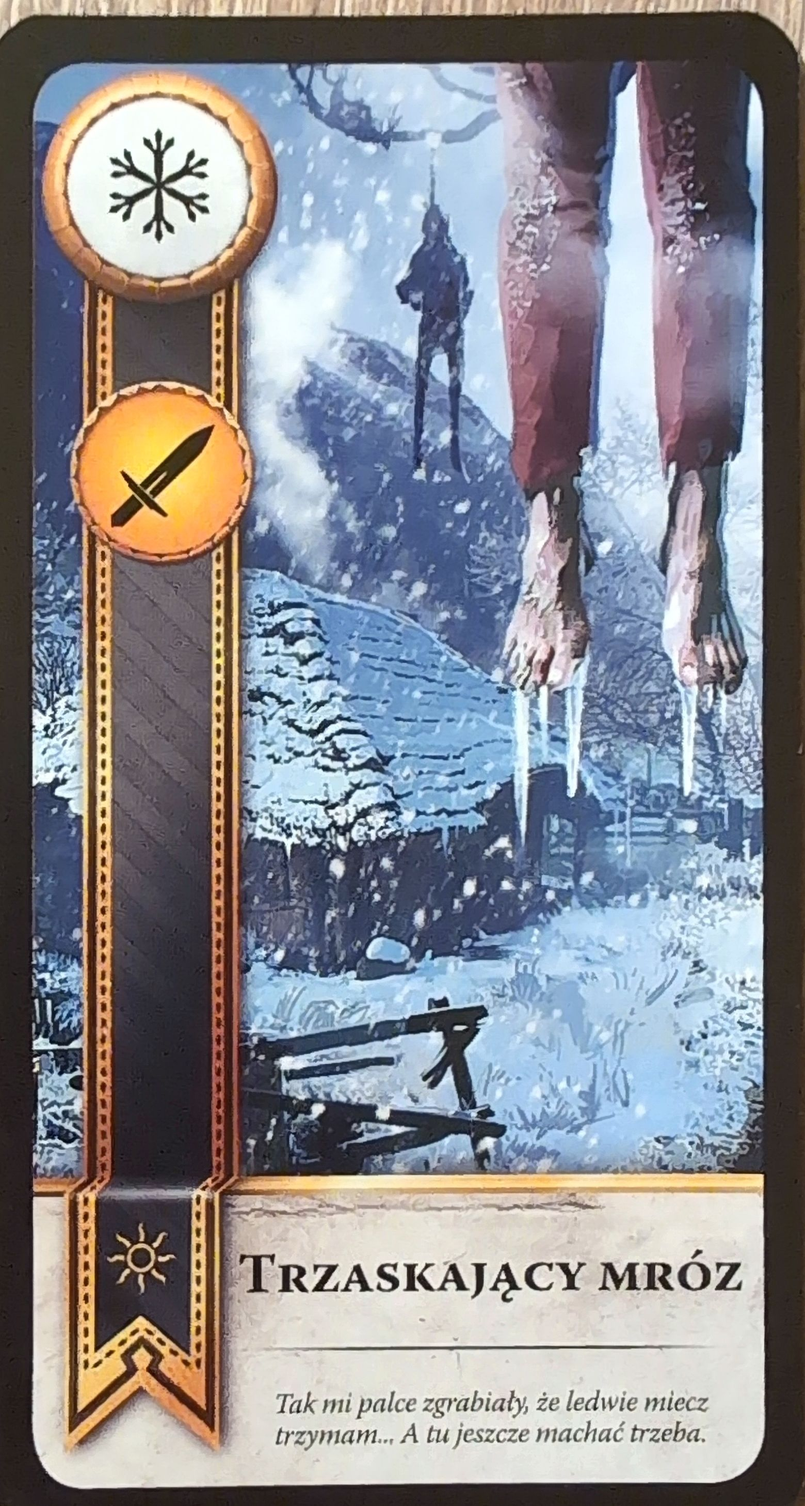miecz: (68, 379, 255, 566)
mroz: (43, 69, 277, 302)
